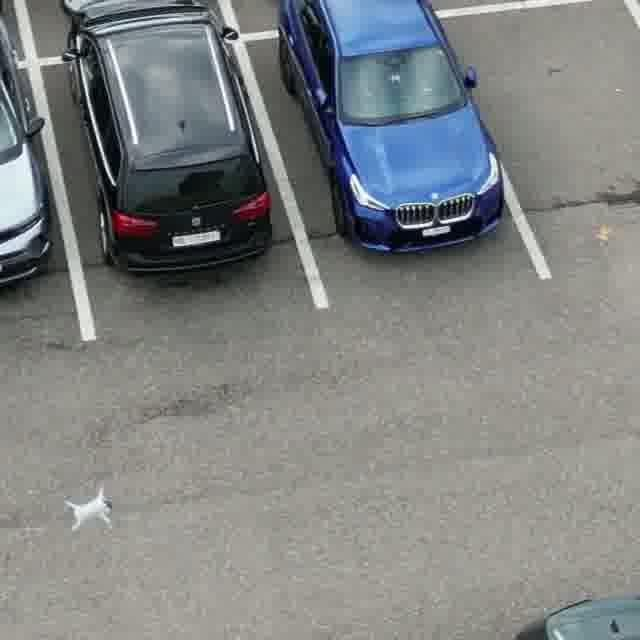Drohne: (65, 487, 112, 530)
